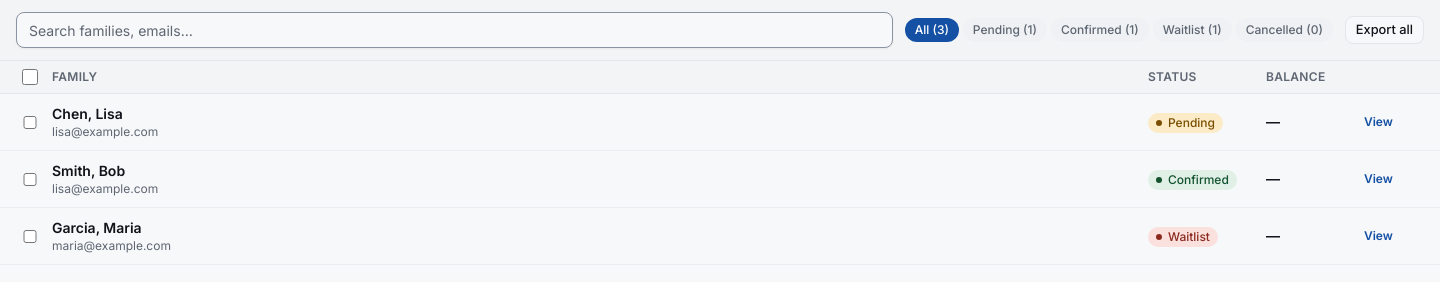
Scenario: FamiliesTable › shows empty state message when no families match search
Type "zzznomatch" into the field with placeholder "Search families, emails…".
click(454, 30); type("zzznomatch")  # box [16,12,893,48]
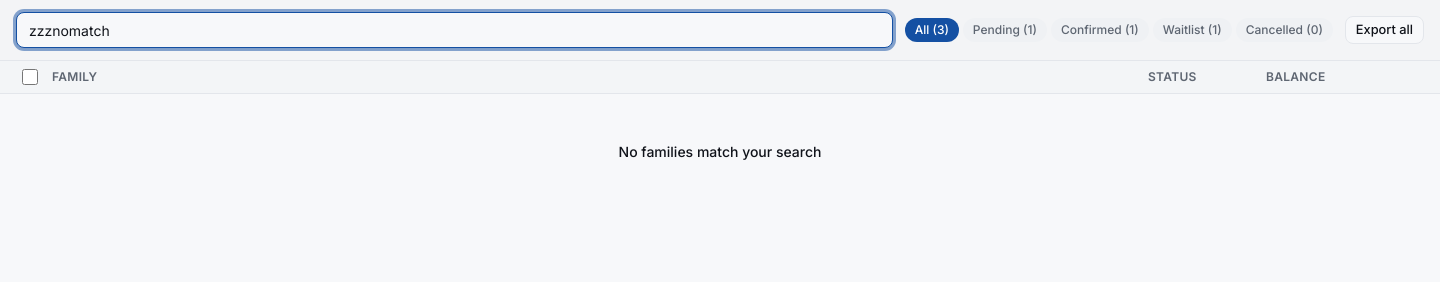
Result: the text "No families match your search" is shown at [619,142,822,162]
